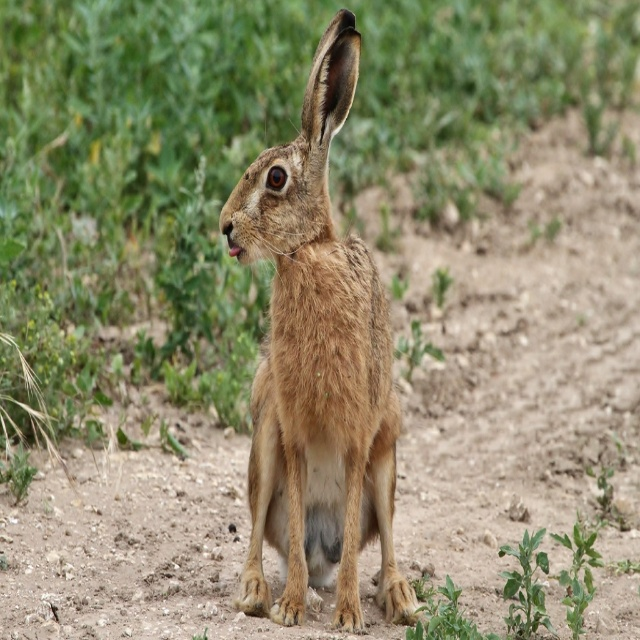Rabbit: (216, 8, 421, 632)
